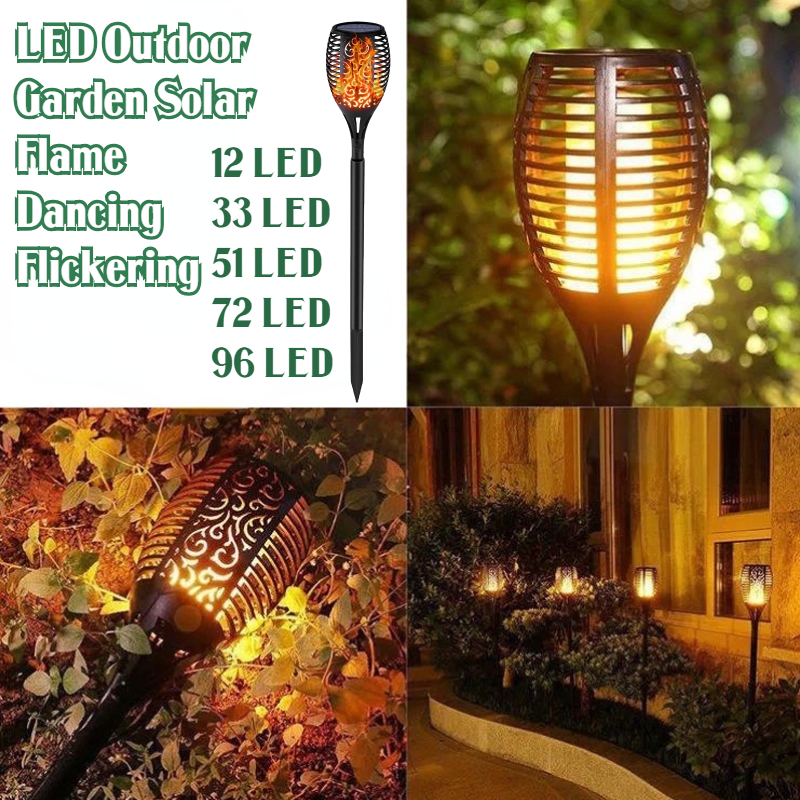Open-Flame-Hazard: (505, 31, 724, 410), (314, 23, 398, 408)
